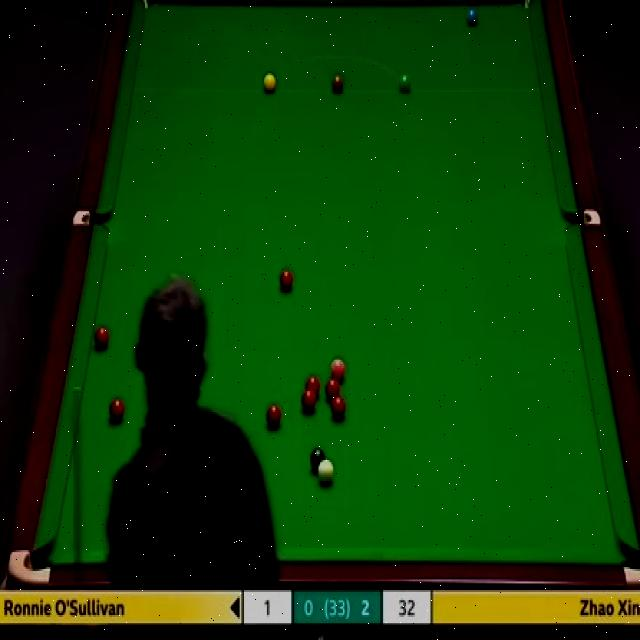black-ball: (310, 449, 326, 472)
blue-ball: (466, 7, 481, 25)
brown-ball: (332, 73, 345, 94)
green-ball: (398, 74, 412, 95)
pink-ball: (330, 355, 346, 381)
red-ball: (94, 326, 112, 351), (266, 403, 282, 430), (109, 397, 125, 424), (330, 394, 346, 419), (278, 269, 294, 293), (324, 377, 339, 400), (306, 375, 320, 398), (302, 390, 316, 412)
white-ball: (317, 457, 335, 488)
yellow-ball: (262, 72, 277, 94)
